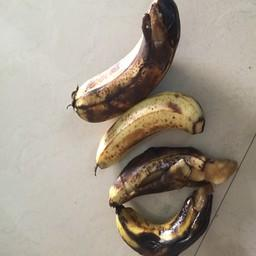Bad_banana: (65, 2, 236, 250)
